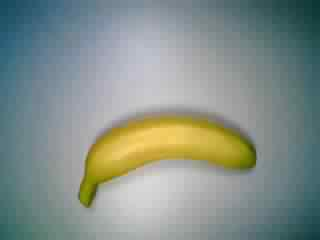banana: (75, 113, 263, 209)
